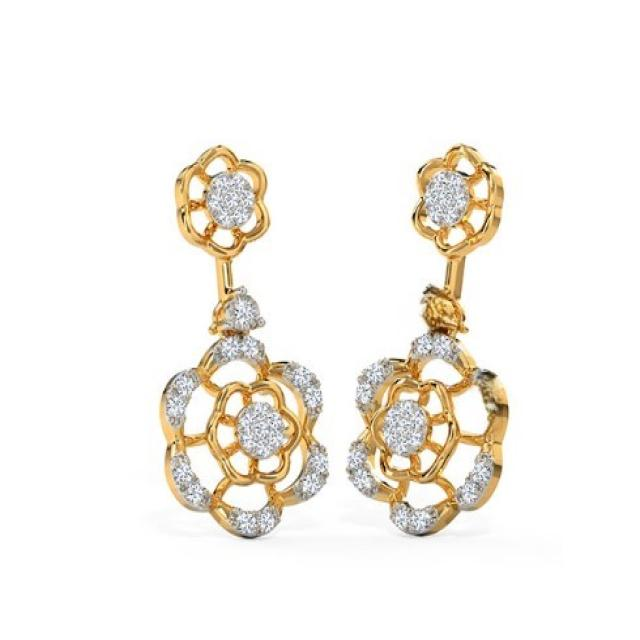missing gem: (425, 294, 459, 331), (433, 502, 450, 527), (481, 383, 494, 397), (470, 371, 485, 383), (486, 400, 498, 413)
